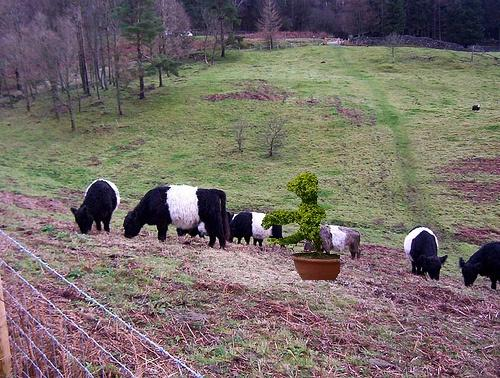tampered: (262, 173, 340, 280)
